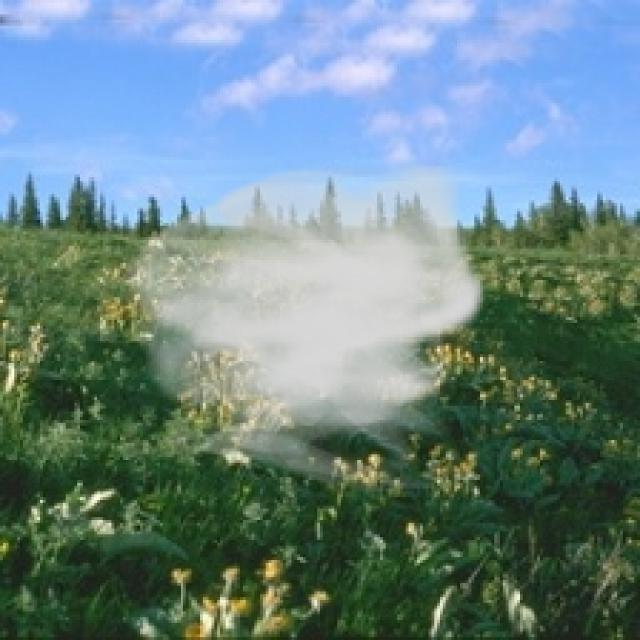smoke: (114, 154, 489, 497)
